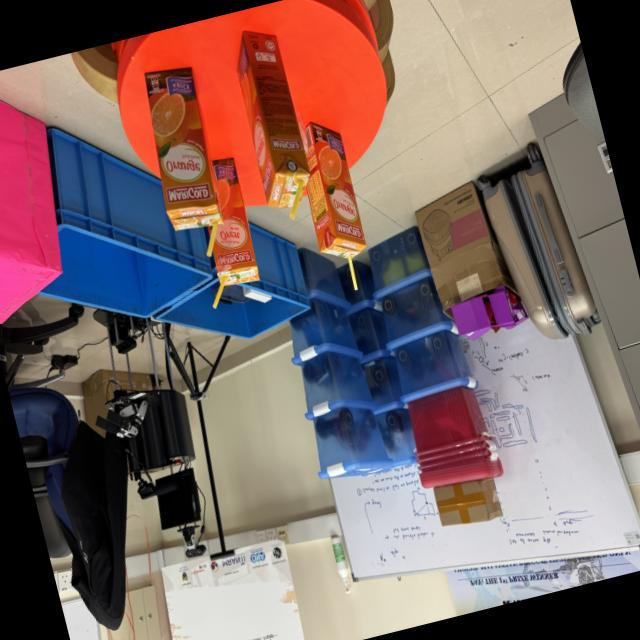drink_carton: (123, 50, 247, 271), (218, 13, 328, 228), (284, 106, 385, 306), (174, 146, 277, 318)
